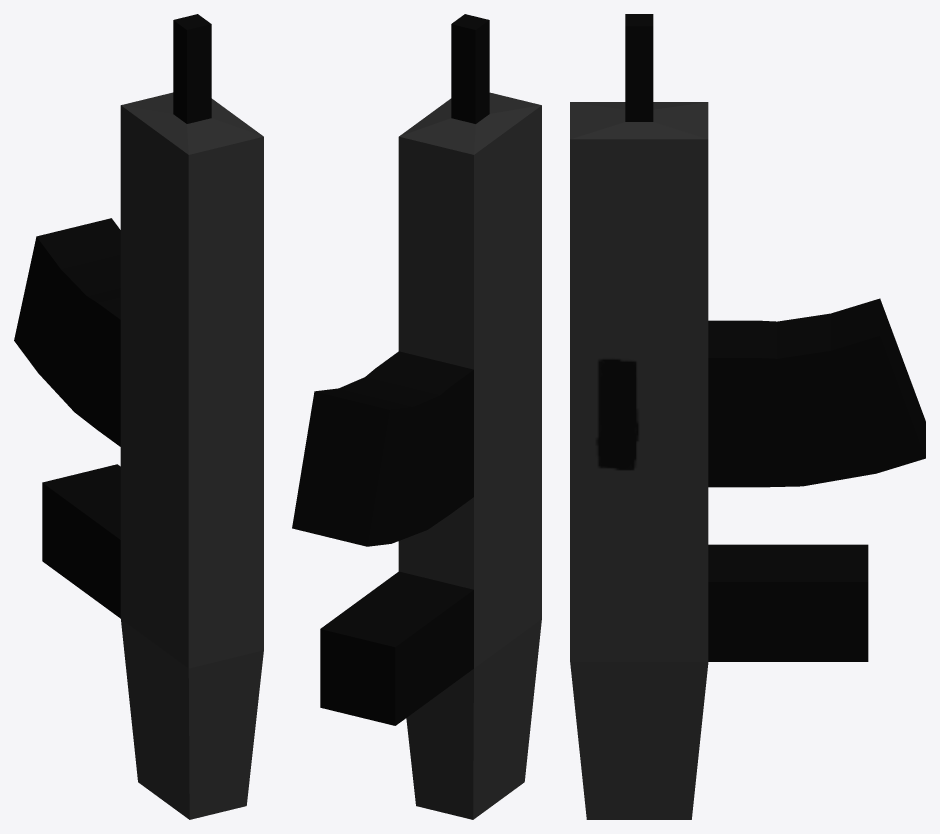
File: weapon1.obj
3 renders of one model, left to right at view 1: azimuth 30°, elevation 25°; view 2: azimuth 150°, elevation 25°; view 3: azimuth 270°, elevation 25°, orthographic.
Parts seen in each view (by area): view 1: ArmWeapon1; view 2: ArmWeapon1; view 3: ArmWeapon1.
Boxes of the visible parts, left/top/right/bottom form: ArmWeapon1: left=14, top=14, right=263, bottom=819; ArmWeapon1: left=292, top=14, right=541, bottom=819; ArmWeapon1: left=570, top=14, right=925, bottom=819.
Bounding box in the file's own units: 0.6835 × 6.7 × 2.75.
Materials: 1 (1 with a texture image).
